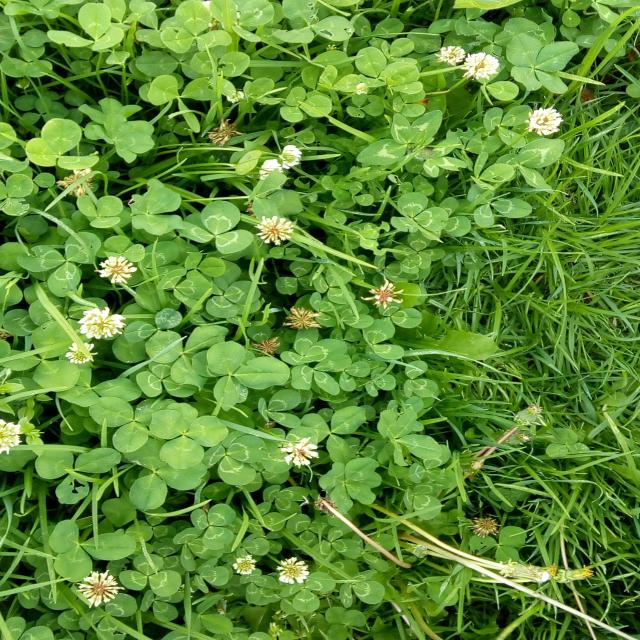Four Leaf Clover: (149, 402, 228, 469), (505, 32, 579, 94), (319, 462, 382, 515), (91, 111, 155, 163), (377, 409, 442, 460), (128, 179, 186, 236)
